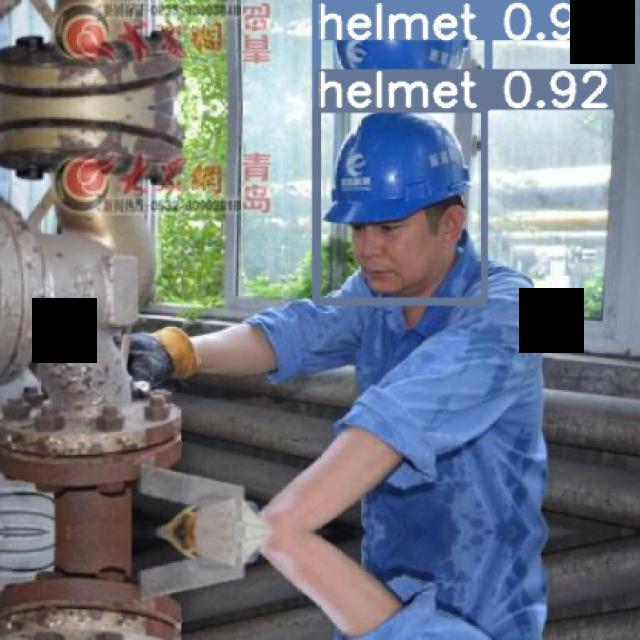blue helmet: (322, 111, 483, 245)
